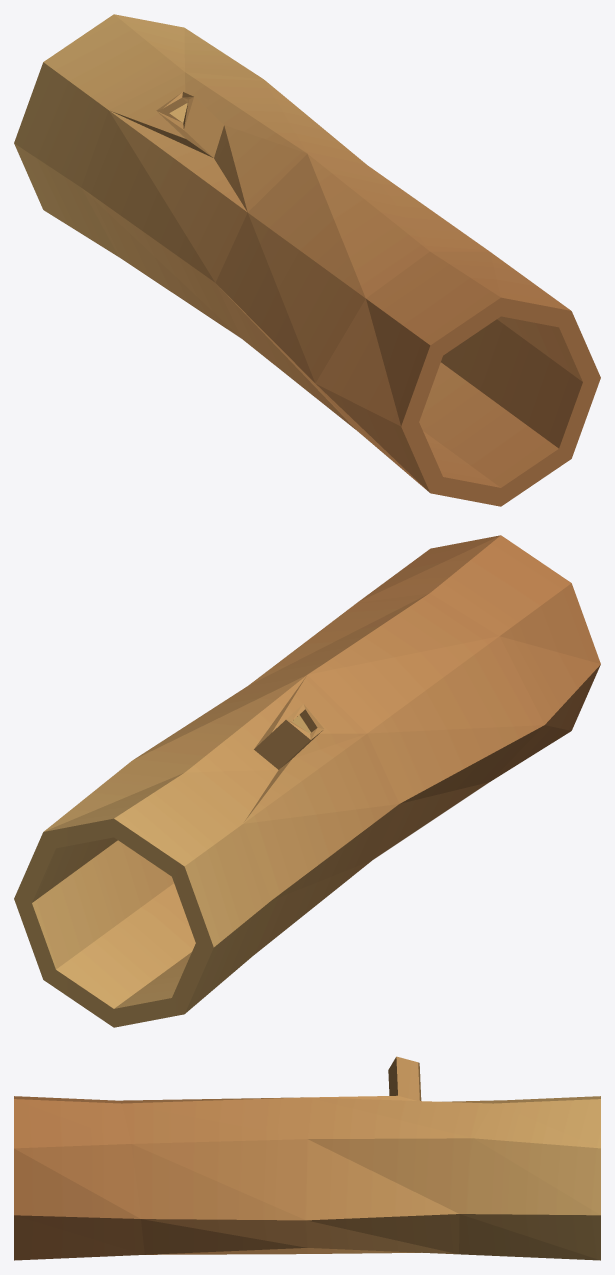
File: Log.fbx
The picture shows the model from 3 angles, top to bottom: view 1: azimuth 30°, elevation 25°; view 2: azimuth 150°, elevation 25°; view 3: azimuth 270°, elevation 25°; orthographic projection. The views are drawn at different scales.
Visible parts, largest first — view 1: LogModel; view 2: LogModel; view 3: LogModel.
Boxes of the visible parts, x1=… form: LogModel: x1=14, y1=14, x2=600, y2=506; LogModel: x1=14, y1=535, x2=600, y2=1027; LogModel: x1=14, y1=1056, x2=600, y2=1260.
Size of the model in its own units: 107 by 107 by 315.
1 material, 1 textured.
